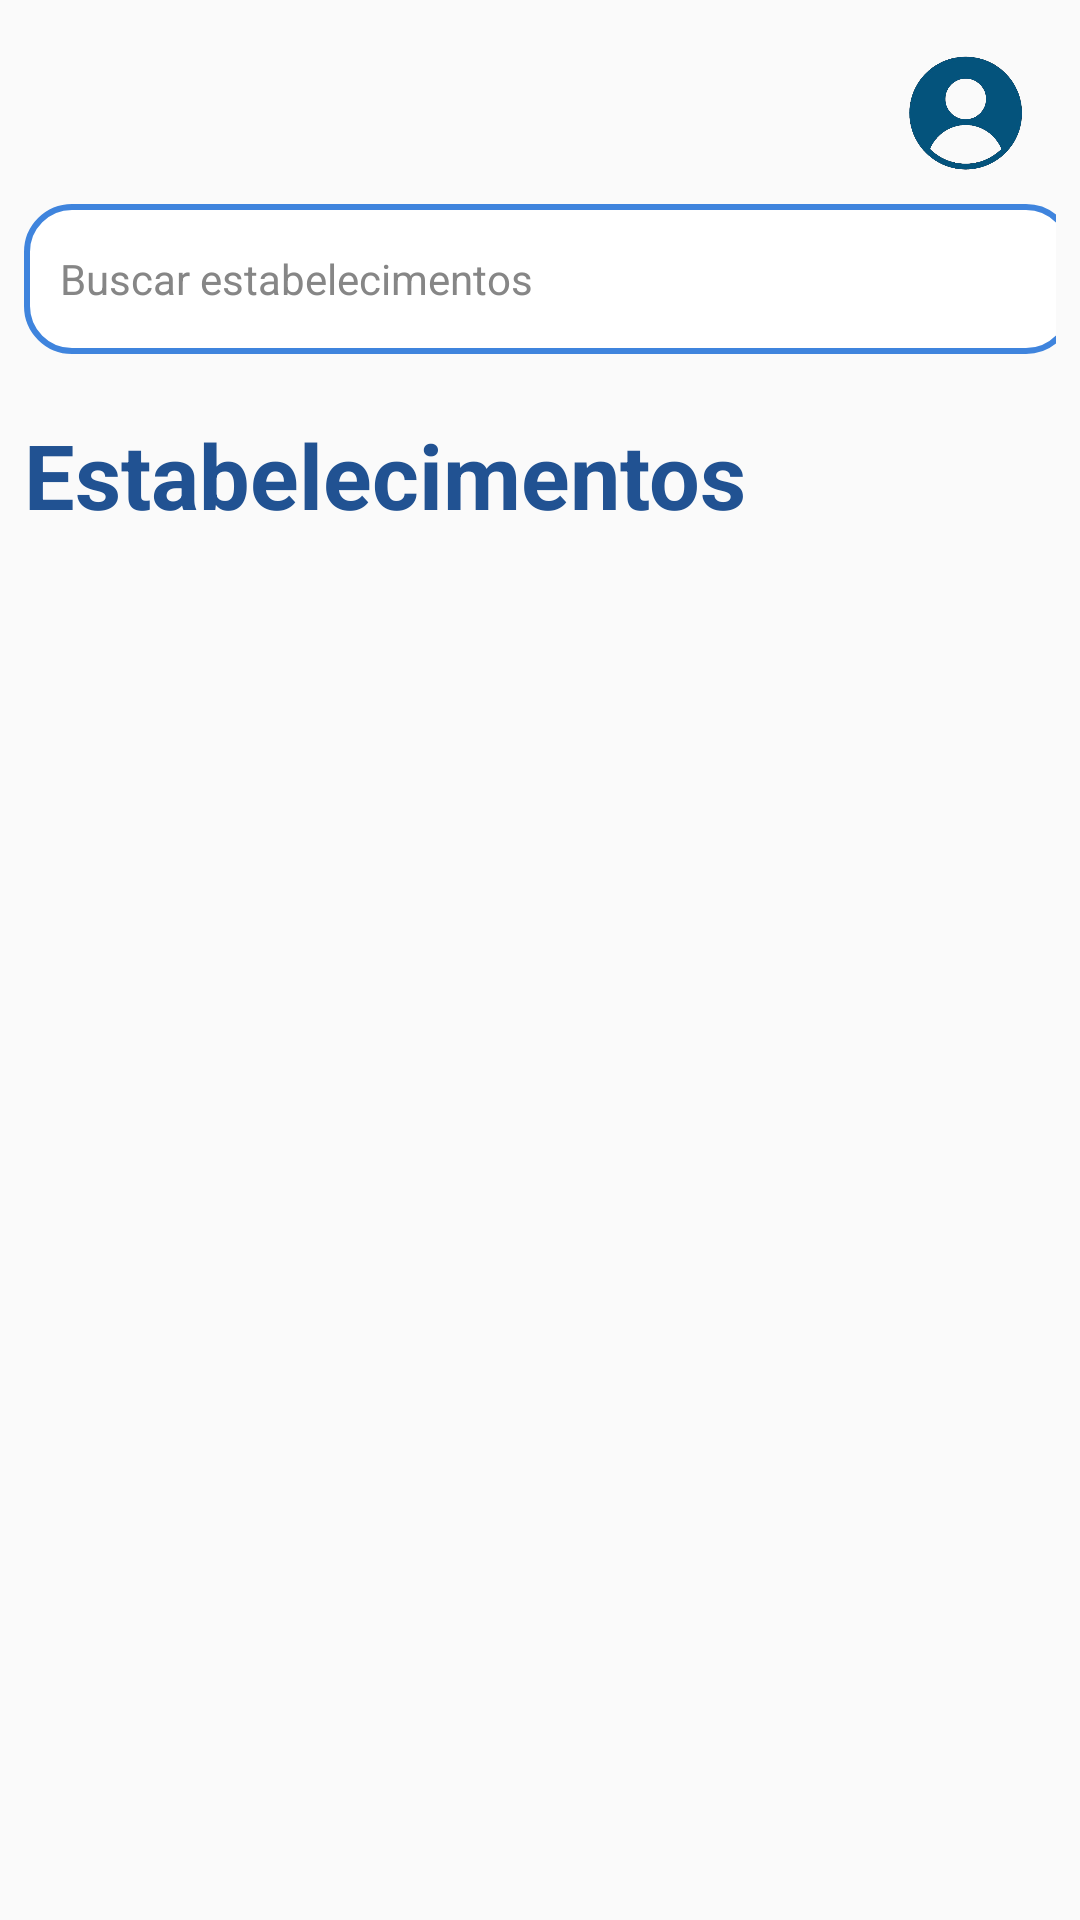

Screen size 1080 x 1920. Icon name, then its center in pixels as point (x, y):
perfil: point (965, 113)
